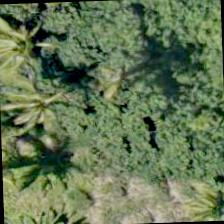Kelapa_Sawit: (0, 62, 82, 156), (0, 1, 76, 91), (165, 165, 223, 222)
